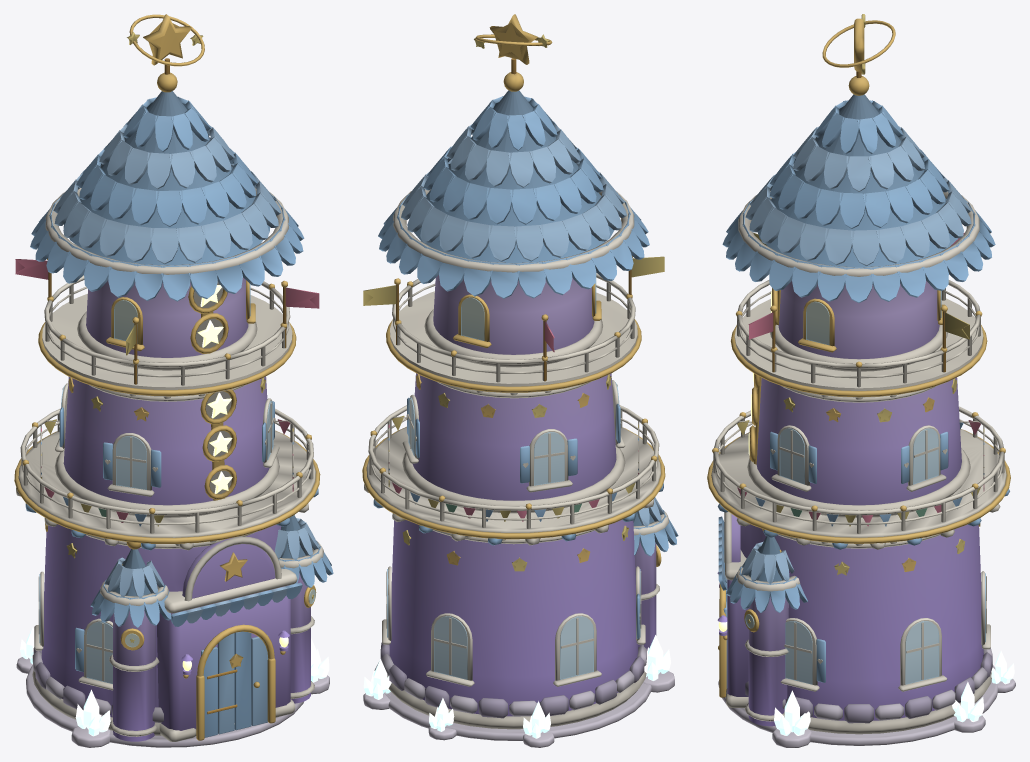
File: tower.glb
3 renders of one model, left to right at view 1: azimuth 30°, elevation 25°; view 2: azimuth 150°, elevation 25°; view 3: azimuth 270°, elevation 25°, orthographic.
Visible parts, largest first — view 1: TOWER__body; view 2: TOWER__body; view 3: TOWER__body.
Boxes of the visible parts, x1,y1,x2,y2 form: TOWER__body: (14, 14, 333, 747); TOWER__body: (362, 14, 678, 747); TOWER__body: (707, 14, 1015, 747).
Bounding box in the file's own units: 0.8233 × 2 × 0.8365.
